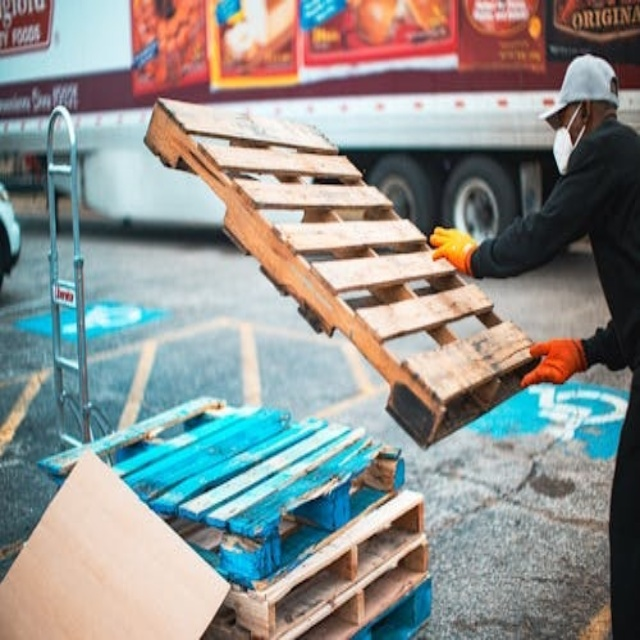Guantes: (521, 337, 587, 390), (430, 226, 480, 277)
Mascara: (552, 105, 583, 177)
